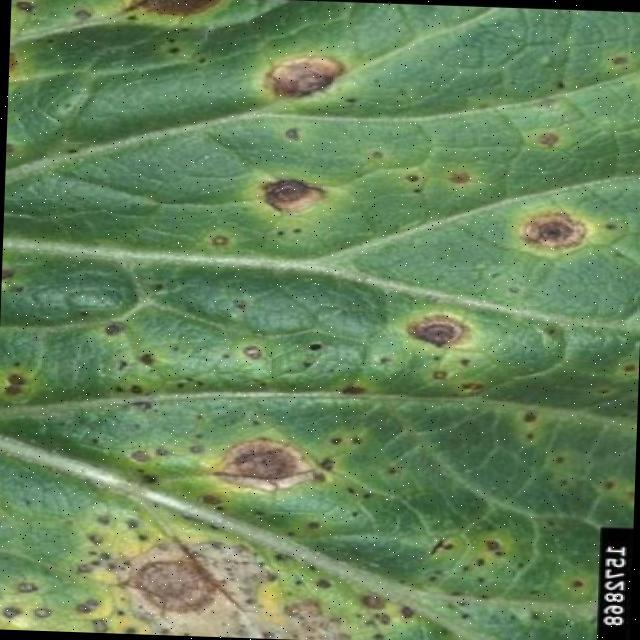Bacterial: (100, 43, 606, 639)
